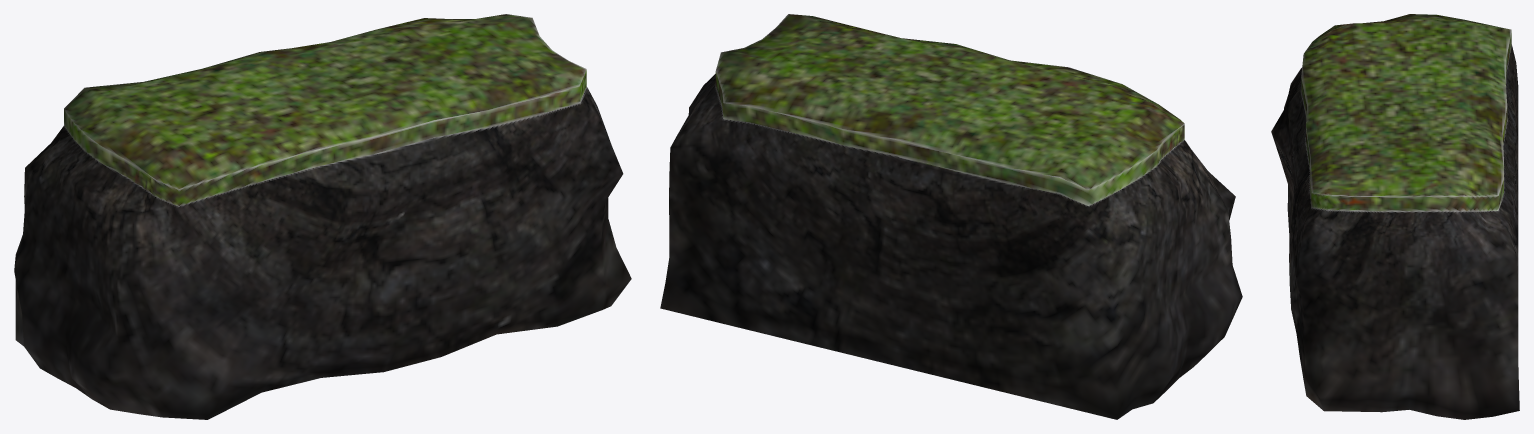
The model's file is rock.dae.
3 renders of one model, left to right at view 1: azimuth 30°, elevation 25°; view 2: azimuth 150°, elevation 25°; view 3: azimuth 270°, elevation 25°, orthographic. The views are drawn at different scales.
Parts seen in each view (by area): view 1: Cube_001; view 2: Cube_001; view 3: Cube_001.
Boxes of the visible parts, <box> form: Cube_001: <box>14,14,631,419</box>; Cube_001: <box>660,14,1242,419</box>; Cube_001: <box>1271,14,1519,419</box>.
Bounding box in the file's own units: 4.84 × 2.29 × 2.19.
